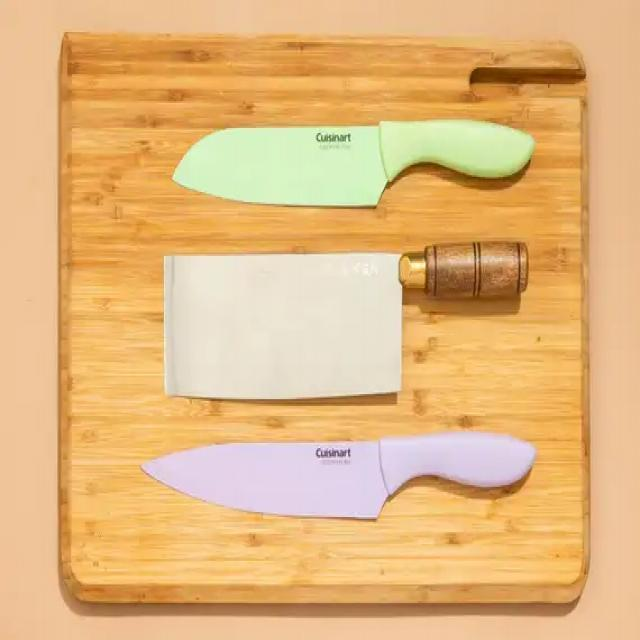cleaver: (155, 232, 532, 406)
